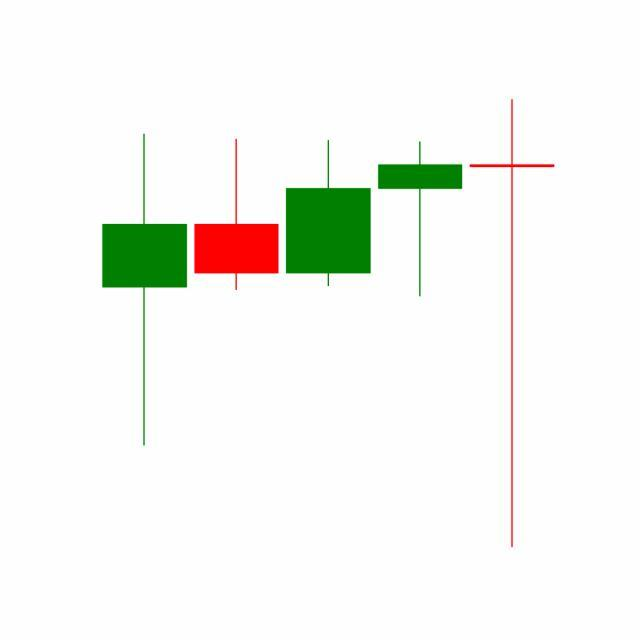Hanging Man: (374, 140, 468, 300)
